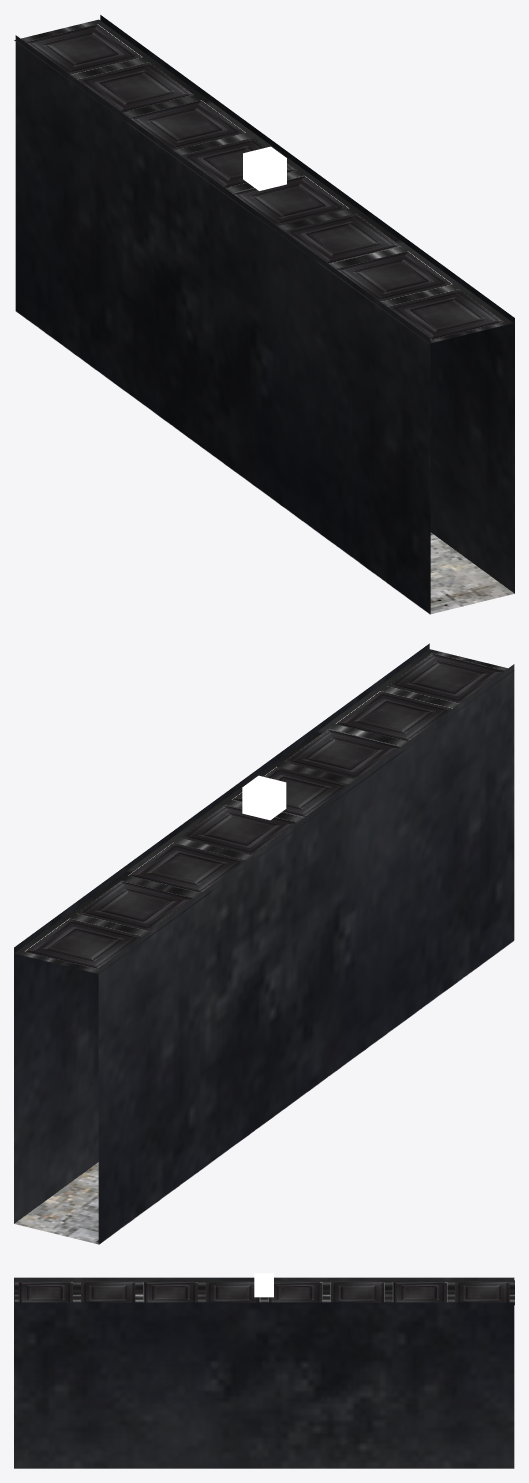
Rendered from infin-hallwy2.glb.
3 views of the same model, one above another, from view 1: azimuth 30°, elevation 25°; view 2: azimuth 150°, elevation 25°; view 3: azimuth 270°, elevation 25° (orthographic). The views are drawn at different scales.
Parts seen in each view (by area): view 1: inf_hallway_wls, inf_hallway_ceiling_tile, inf_hallway_ceiling_bars, inf_hallway_floor.001, Cube.001; view 2: inf_hallway_wls, inf_hallway_ceiling_tile, inf_hallway_ceiling_bars, inf_hallway_floor.001, Cube.001; view 3: inf_hallway_wls, inf_hallway_ceiling_tile, inf_hallway_ceiling_bars, Cube.001.
Part boxes in pixels (x1,y1,x2,y2): inf_hallway_wls: [15, 15, 514, 614]; inf_hallway_ceiling_tile: [25, 24, 503, 339]; inf_hallway_ceiling_bars: [14, 19, 513, 343]; inf_hallway_floor.001: [15, 311, 514, 614]; Cube.001: [243, 146, 286, 190]; inf_hallway_wls: [14, 643, 514, 1244]; inf_hallway_ceiling_tile: [25, 653, 504, 969]; inf_hallway_ceiling_bars: [14, 649, 514, 973]; inf_hallway_floor.001: [14, 941, 513, 1244]; Cube.001: [242, 775, 286, 820]; inf_hallway_wls: [14, 1277, 514, 1468]; inf_hallway_ceiling_tile: [18, 1282, 509, 1302]; inf_hallway_ceiling_bars: [14, 1280, 514, 1305]; Cube.001: [254, 1273, 273, 1297].
Size of what is drawn, in the model's own units: 3.88 by 12.84 by 32.59.
Materials: 6 (4 with a texture image).
